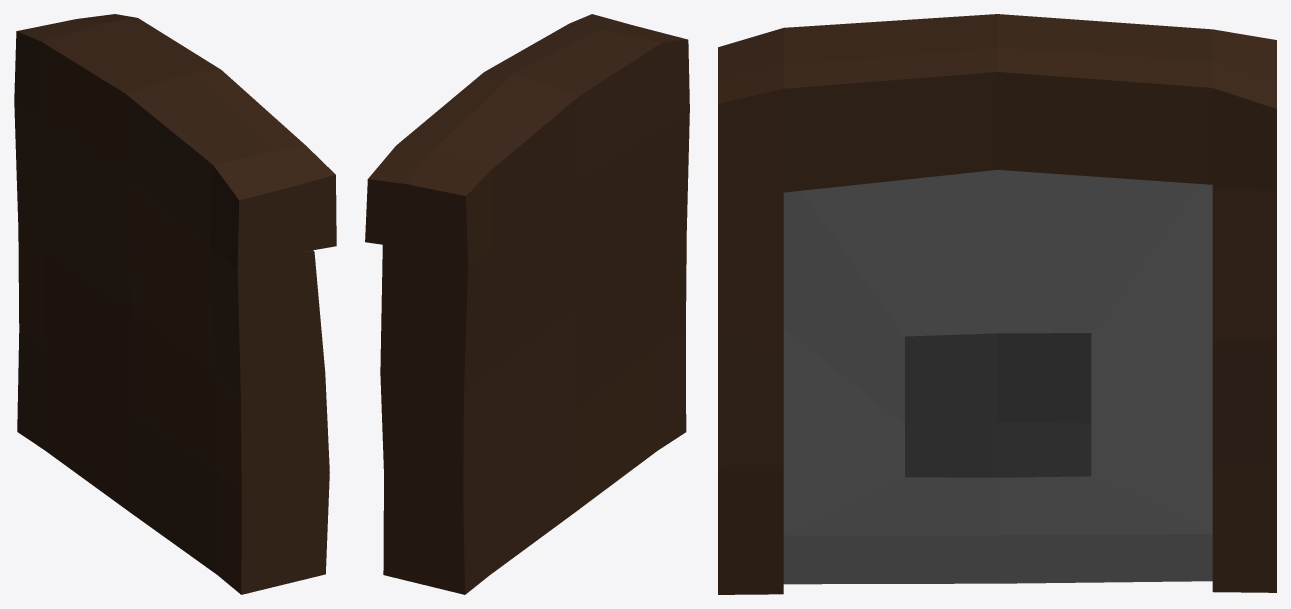
The model's file is Fireplace.fbx.
3 renders of one model, left to right at view 1: azimuth 30°, elevation 25°; view 2: azimuth 150°, elevation 25°; view 3: azimuth 270°, elevation 25°, orthographic. The views are drawn at different scales.
Visible parts, largest first — view 1: Fireplace; view 2: Fireplace; view 3: Fireplace.
Part boxes in pixels (left/top/right/bottom): Fireplace: left=14, top=14, right=336, bottom=594; Fireplace: left=365, top=14, right=689, bottom=594; Fireplace: left=718, top=14, right=1276, bottom=594.
Bounding box in the file's own units: 54.07 × 211 × 200.
